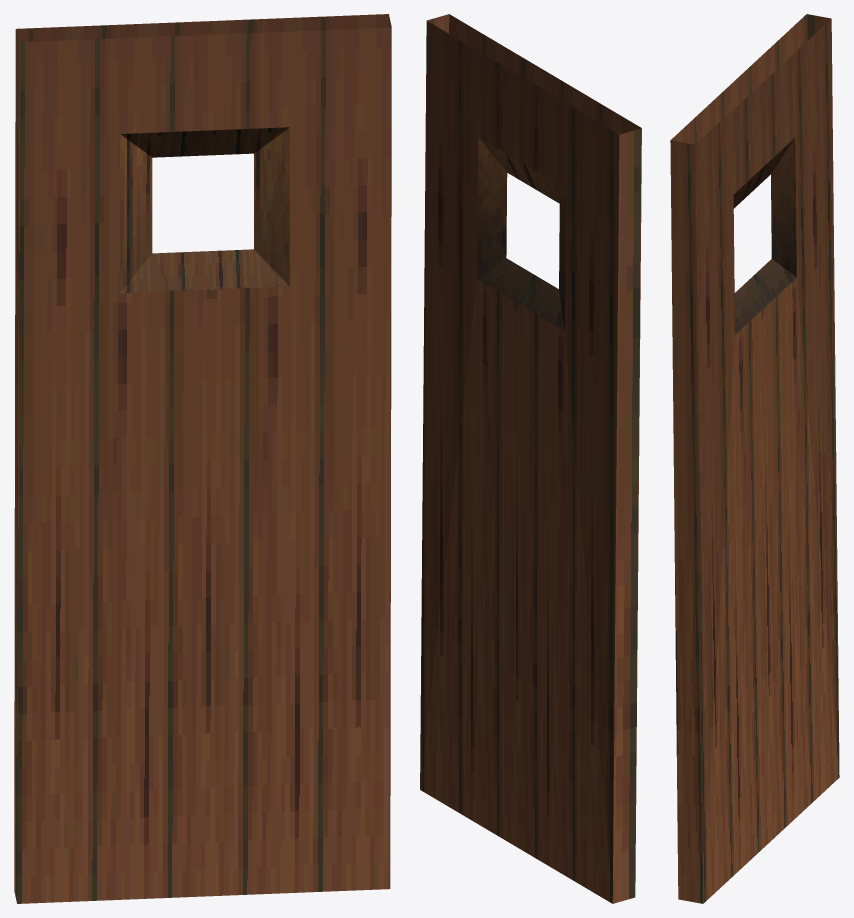
File: primary_044.glb
The picture shows the model from 3 angles, left to right: view 1: azimuth 30°, elevation 25°; view 2: azimuth 150°, elevation 25°; view 3: azimuth 270°, elevation 25°; orthographic projection. The views are drawn at different scales.
Parts seen in each view (by area): view 1: Object; view 2: Object; view 3: Object.
Boxes of the visible parts, x1=… form: Object: x1=14, y1=14, x2=391, y2=903; Object: x1=420, y1=14, x2=641, y2=903; Object: x1=670, y1=14, x2=839, y2=903.
Bounding box in the file's own units: 0.9133 × 2.44 × 0.4934.
Materials: 5 (5 with a texture image).
